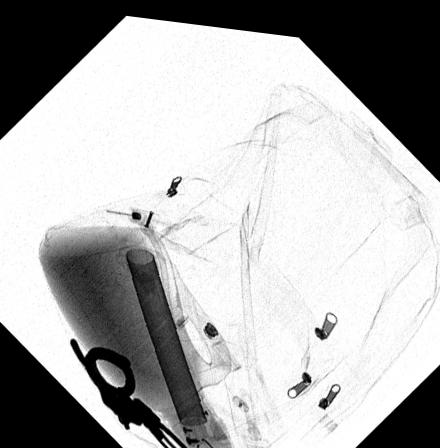HandCuffs: (71, 335, 193, 448)
